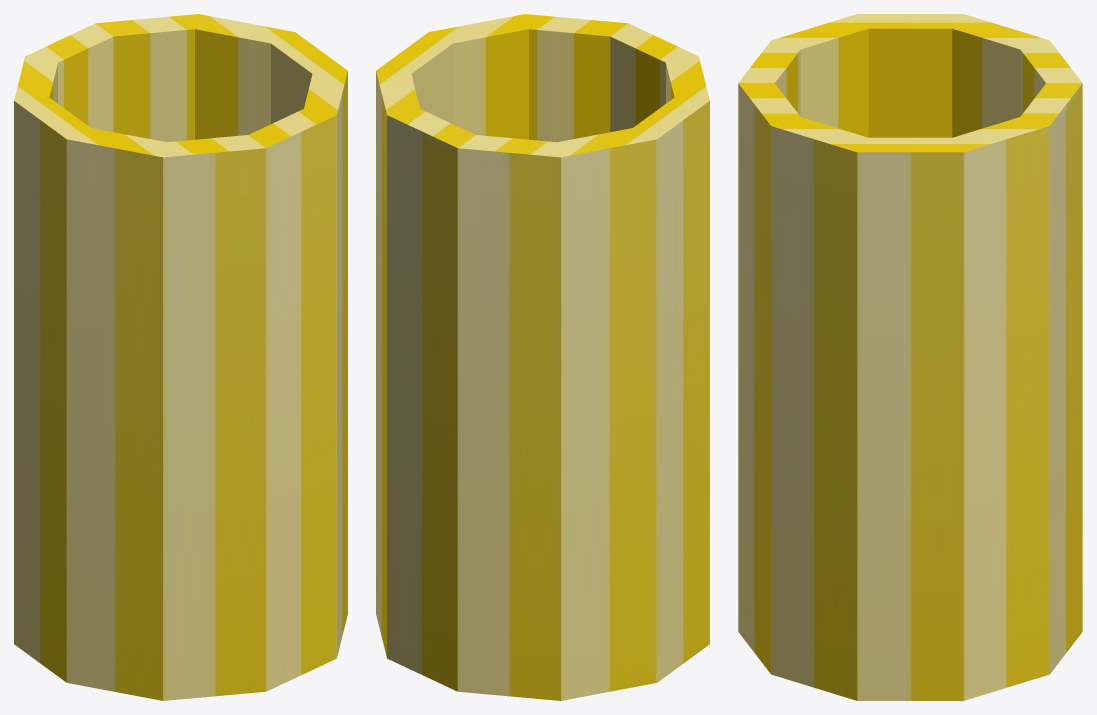
The model's file is veladora-amarilla.obj.
3 views of the same model, side by side, from view 1: azimuth 30°, elevation 25°; view 2: azimuth 150°, elevation 25°; view 3: azimuth 270°, elevation 25° (orthographic).
Parts seen in each view (by area): view 1: Cylinder.008; view 2: Cylinder.008; view 3: Cylinder.008.
Part boxes in pixels (x1,y1,x2,y2): Cylinder.008: [14, 14, 347, 700]; Cylinder.008: [376, 14, 709, 700]; Cylinder.008: [738, 14, 1082, 700].
Bounding box in the file's own units: 0.0356 × 0.0657 × 0.0374.
Materials: 1 (1 with a texture image).
